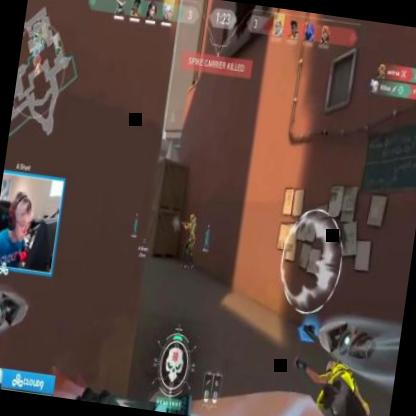enemy: (178, 212, 200, 268)
enemy_head: (189, 214, 196, 224)
